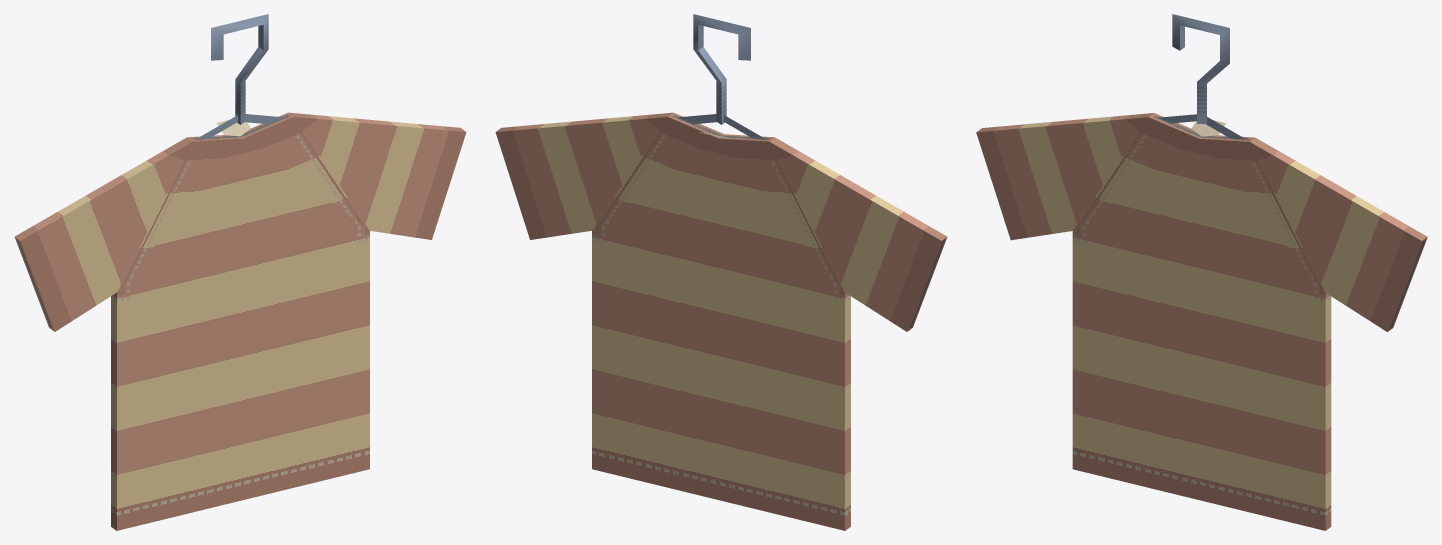
File: 033d_Striped_T-Shirt.glb
3 renders of one model, left to right at view 1: azimuth 30°, elevation 25°; view 2: azimuth 150°, elevation 25°; view 3: azimuth 330°, elevation 25°, orthographic.
Visible parts, largest first — view 1: part_0; view 2: part_0; view 3: part_0.
Boxes of the visible parts, x1,y1,x2,y2 form: part_0: (14, 14, 466, 530); part_0: (495, 14, 947, 530); part_0: (976, 14, 1427, 530).
Size of the model in its own units: 0.661 by 0.6754 by 0.0347.
1 material, 1 textured.
